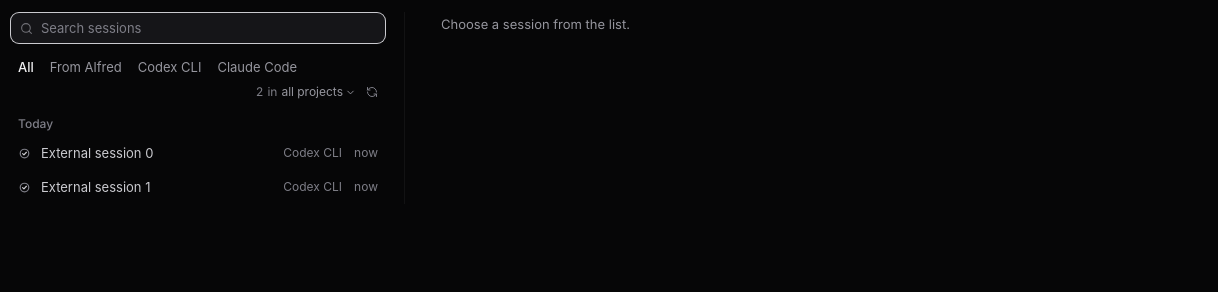
Test: SessionsSurface › renders missing and malformed partial transcript states
The image size is (1218, 292).
Click the option "External session 0 Codex CLI now": (97, 153) [8,136,388,170]
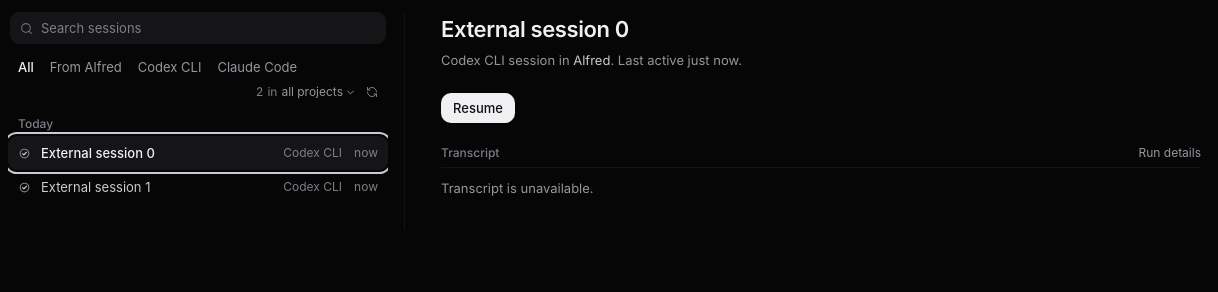
Expected: the text "Transcript is unavailable." is shown, [441,180,594,198]
Click the option "External session 1 Codex CLI now": (96, 187) [8,170,388,204]
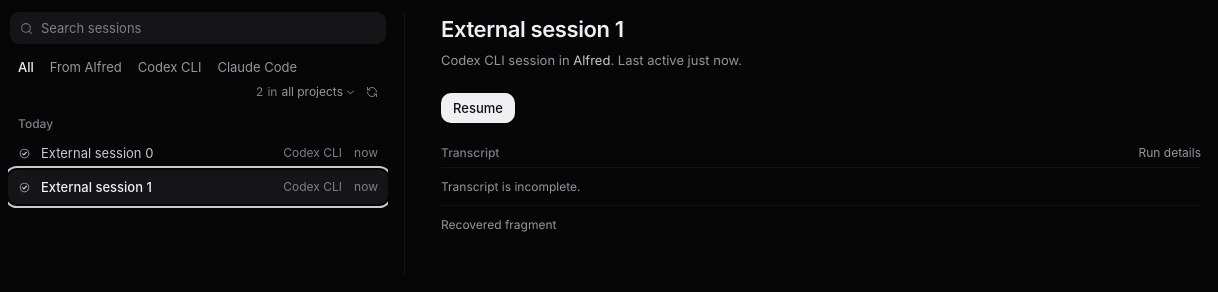
Expected: the text "Recovered fragment" is shown, [441,217,556,232]
Expected: the text "Transcript is incomplete." is shown, [441,168,1201,206]
